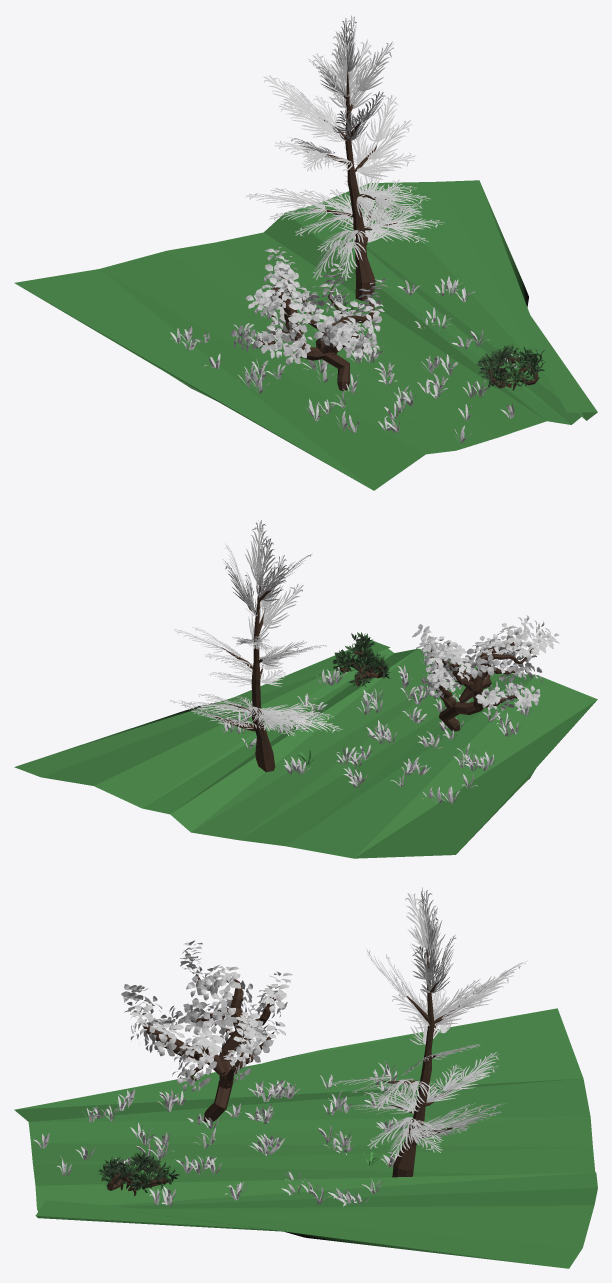
Rendered from Quill-test.fbx.
3 renders of one model, top to bottom at view 1: azimuth 30°, elevation 25°; view 2: azimuth 150°, elevation 25°; view 3: azimuth 270°, elevation 25°, orthographic. The views are drawn at different scales.
Parts seen in each view (by area): view 1: Paint, NewLayer2, NewLayer3, NewLayer0, Hervb2, NewLayer1, Herb1; view 2: Paint, NewLayer2, NewLayer3, NewLayer0, Hervb2, Herb1, NewLayer1; view 3: Paint, NewLayer2, NewLayer3, NewLayer0, Hervb2, Herb1, NewLayer1.
Part boxes in pixels (box(x1,y1,x2,y2)): Paint: box(14, 180, 597, 490); NewLayer2: box(245, 15, 444, 280); NewLayer3: box(231, 247, 387, 365); NewLayer0: box(255, 63, 538, 390); Hervb2: box(170, 276, 521, 443); NewLayer1: box(476, 343, 545, 388); Herb1: box(204, 280, 489, 419); Paint: box(14, 640, 597, 858); NewLayer2: box(169, 520, 342, 736); NewLayer3: box(412, 615, 559, 710); NewLayer0: box(211, 586, 533, 772); Hervb2: box(221, 652, 532, 804); Herb1: box(240, 681, 513, 788); NewLayer1: box(332, 632, 390, 687); Paint: box(14, 1008, 597, 1268); NewLayer2: box(329, 887, 526, 1159); NewLayer3: box(121, 940, 292, 1091); NewLayer0: box(107, 938, 466, 1196); Hervb2: box(33, 1060, 410, 1206); Herb1: box(101, 1074, 383, 1204); NewLayer1: box(97, 1150, 179, 1192).
Bounding box in the file's own units: 22.76 × 13.63 × 23.08.
